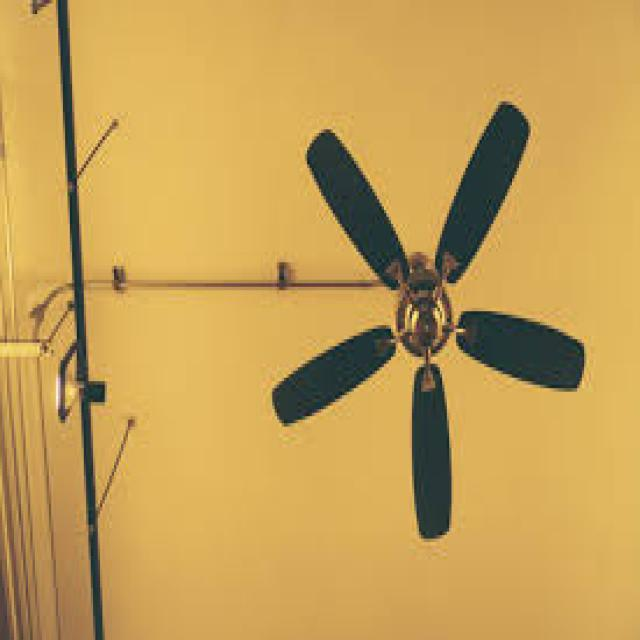fan_off: (268, 100, 590, 542)
